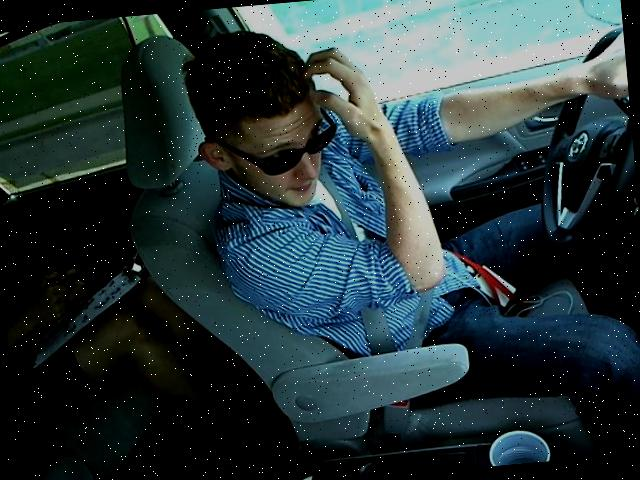c6 - Hair and Makeup: (175, 0, 639, 337)
